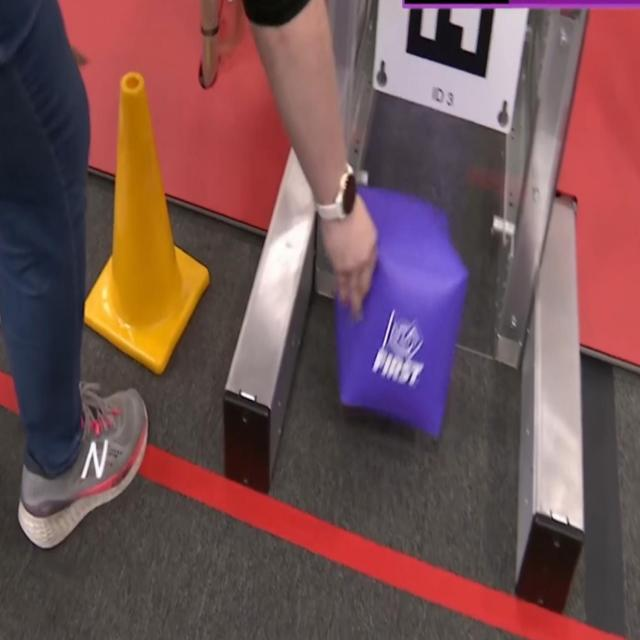frc_cone: (76, 74, 208, 379)
frc_cube: (325, 182, 466, 434)
